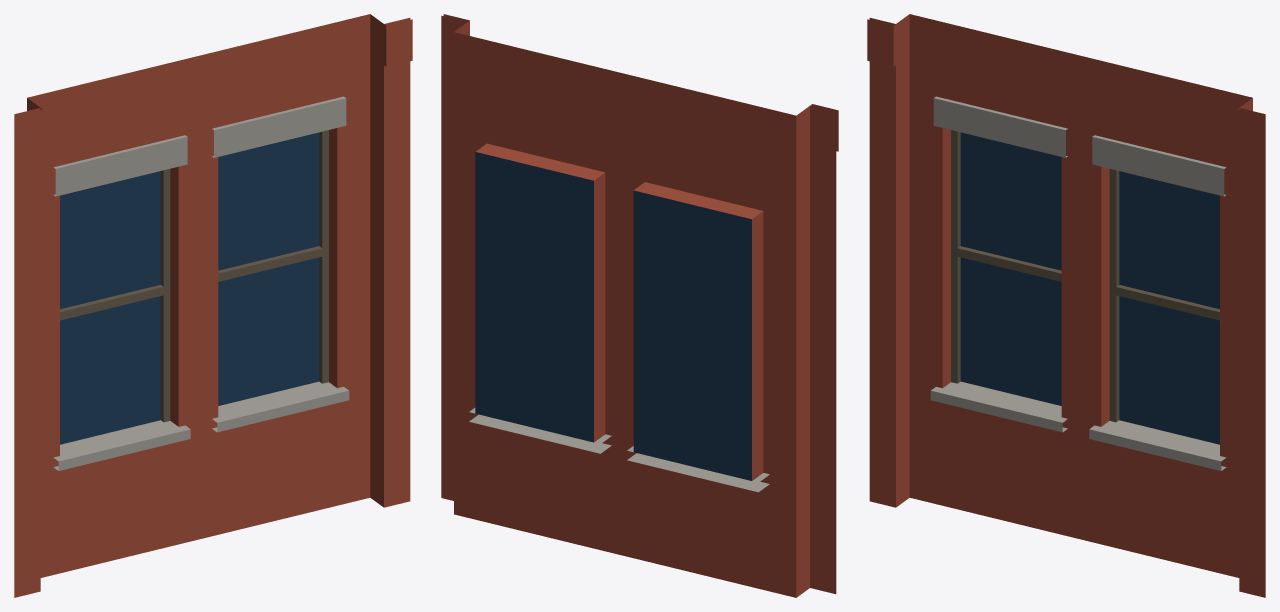
Rendered from mid-w1_close.fbx.
3 views of the same model, side by side, from view 1: azimuth 30°, elevation 25°; view 2: azimuth 150°, elevation 25°; view 3: azimuth 330°, elevation 25° (orthographic).
Visible parts, largest first — view 1: a2012/600/mid-w1_close; view 2: a2012/600/mid-w1_close; view 3: a2012/600/mid-w1_close.
Part boxes in pixels (bbox=[...]): a2012/600/mid-w1_close: bbox=[14, 14, 412, 597]; a2012/600/mid-w1_close: bbox=[441, 14, 838, 597]; a2012/600/mid-w1_close: bbox=[867, 14, 1265, 597].
Bounding box in the file's own units: 3 × 3.5 × 0.36.
